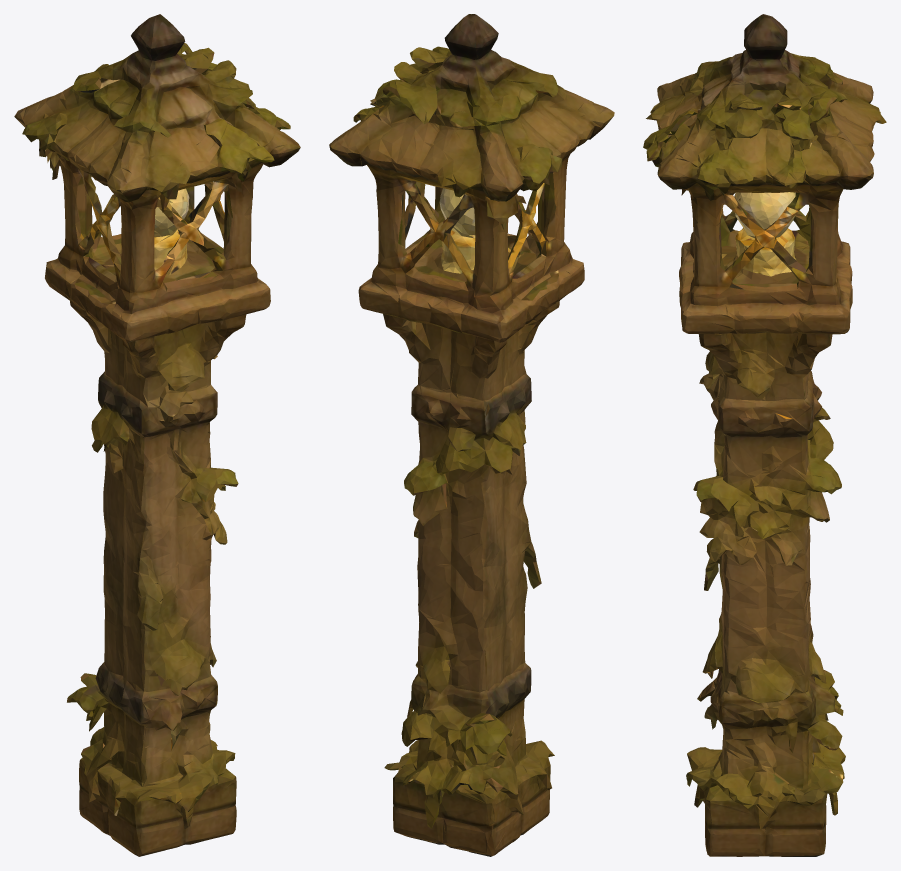
File: prop-lantern.glb
The picture shows the model from 3 angles, left to right: view 1: azimuth 30°, elevation 25°; view 2: azimuth 150°, elevation 25°; view 3: azimuth 270°, elevation 25°; orthographic projection.
Parts seen in each view (by area): view 1: geometry_0; view 2: geometry_0; view 3: geometry_0.
Part boxes in pixels (x1=…): geometry_0: x1=14, y1=14, x2=300, y2=856; geometry_0: x1=329, y1=14, x2=614, y2=856; geometry_0: x1=643, y1=14, x2=886, y2=856.
Size of the model in its own units: 0.5328 by 2 by 0.5384.
1 material, 1 textured.
